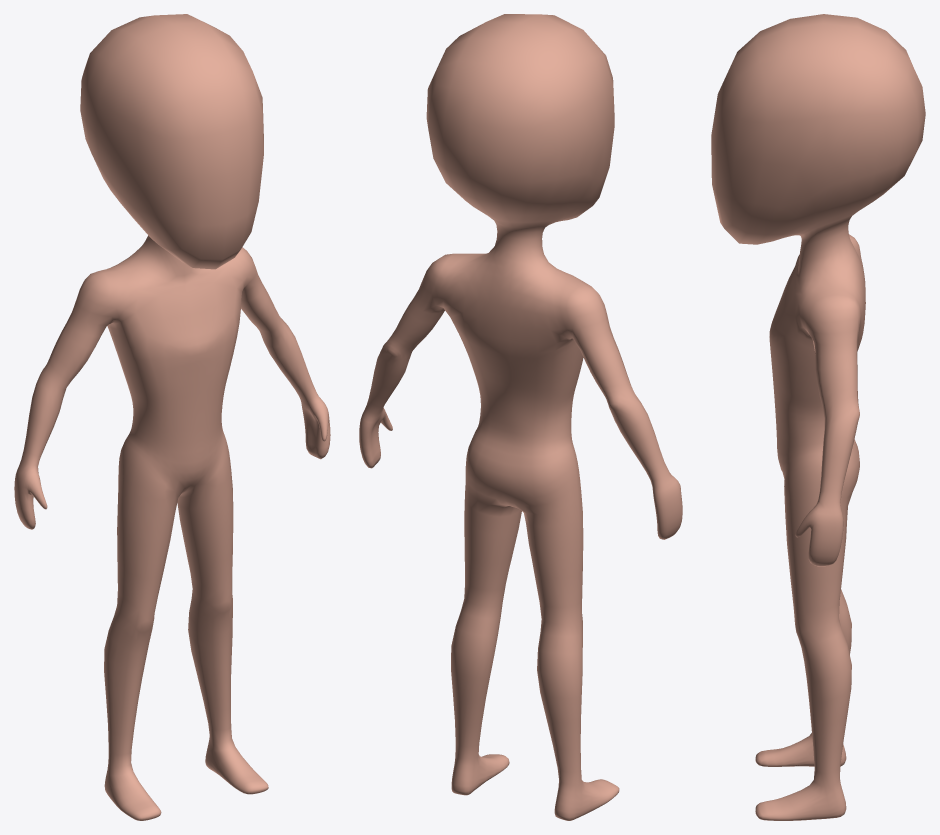
Rendered from SM_Human.fbx.
3 renders of one model, left to right at view 1: azimuth 30°, elevation 25°; view 2: azimuth 150°, elevation 25°; view 3: azimuth 270°, elevation 25°, orthographic. The views are drawn at different scales.
Parts seen in each view (by area): view 1: SM_Human; view 2: SM_Human; view 3: SM_Human.
Part boxes in pixels (x1=…): SM_Human: x1=14, y1=14, x2=330, y2=820; SM_Human: x1=359, y1=14, x2=682, y2=820; SM_Human: x1=711, y1=14, x2=925, y2=820.
Bounding box in the file's own units: 79.49 × 187 × 47.35.
